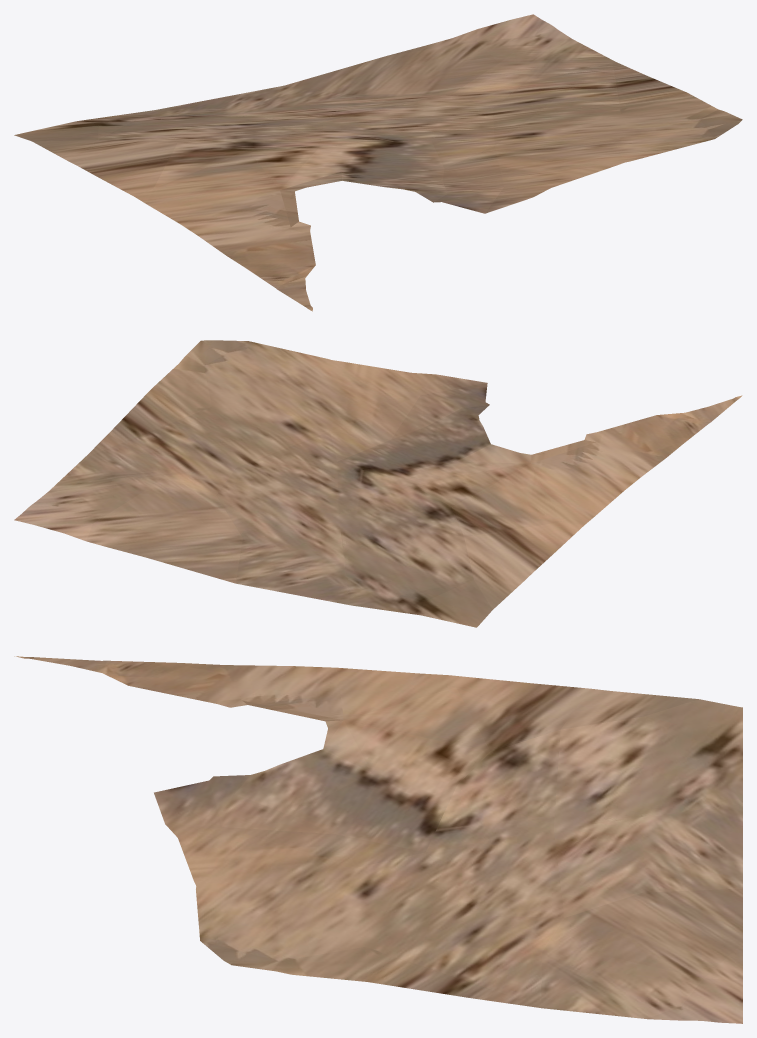
3 views of the same model, one above another, from view 1: azimuth 30°, elevation 25°; view 2: azimuth 150°, elevation 25°; view 3: azimuth 270°, elevation 25° (orthographic). The views are drawn at different scales.
Size of the model in its own units: 2.09 by 0.2252 by 2.08.
2 materials, 2 textured.
